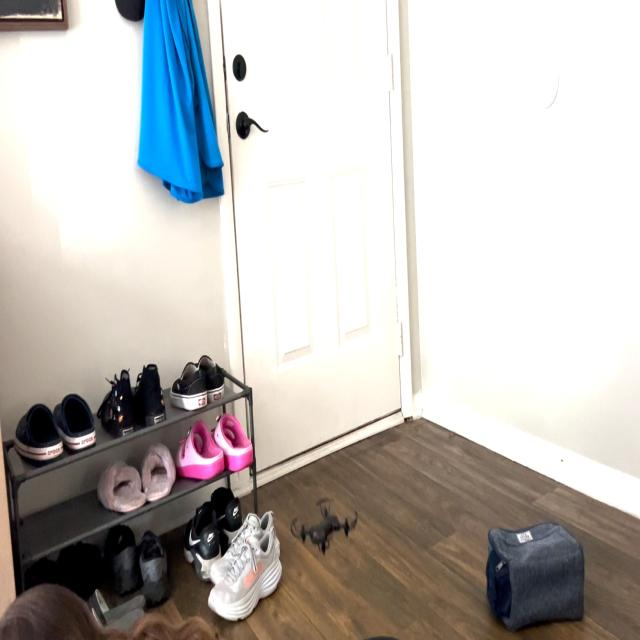drone: (278, 482, 368, 555)
